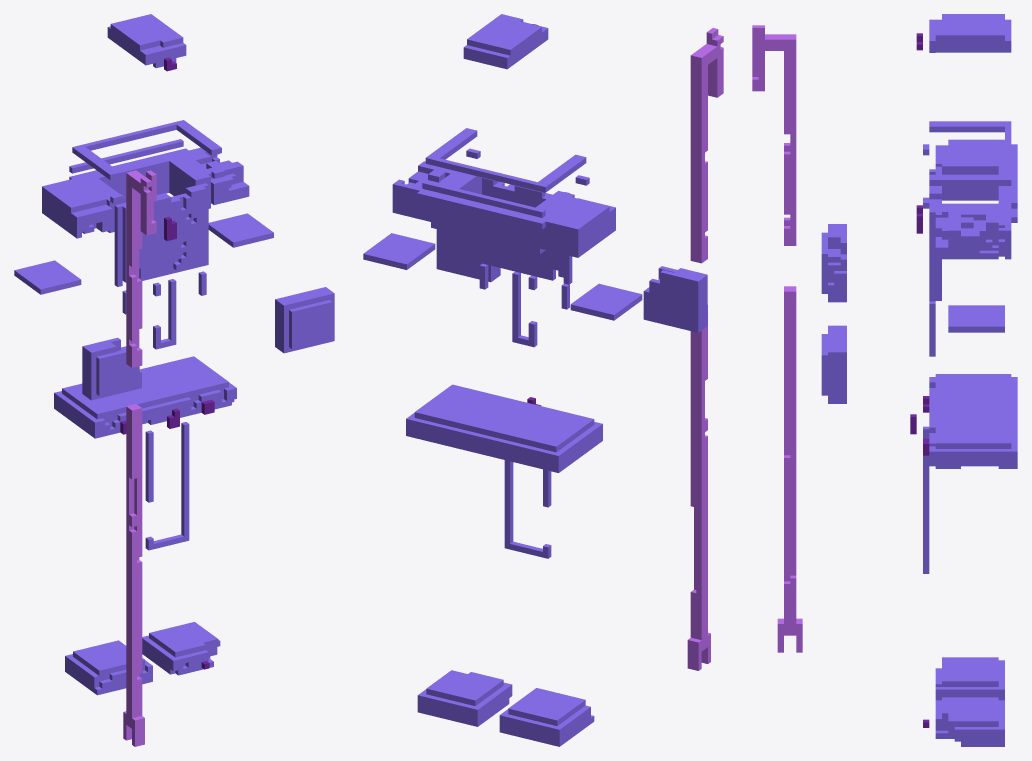
The model's file is Anubis_50-8.obj.
The picture shows the model from 3 angles, left to right: view 1: azimuth 30°, elevation 25°; view 2: azimuth 150°, elevation 25°; view 3: azimuth 270°, elevation 25°; orthographic projection. The views are drawn at different scales.
Size of the model in its own units: 4.8 by 12 by 4.2.
1 material, 1 textured.
